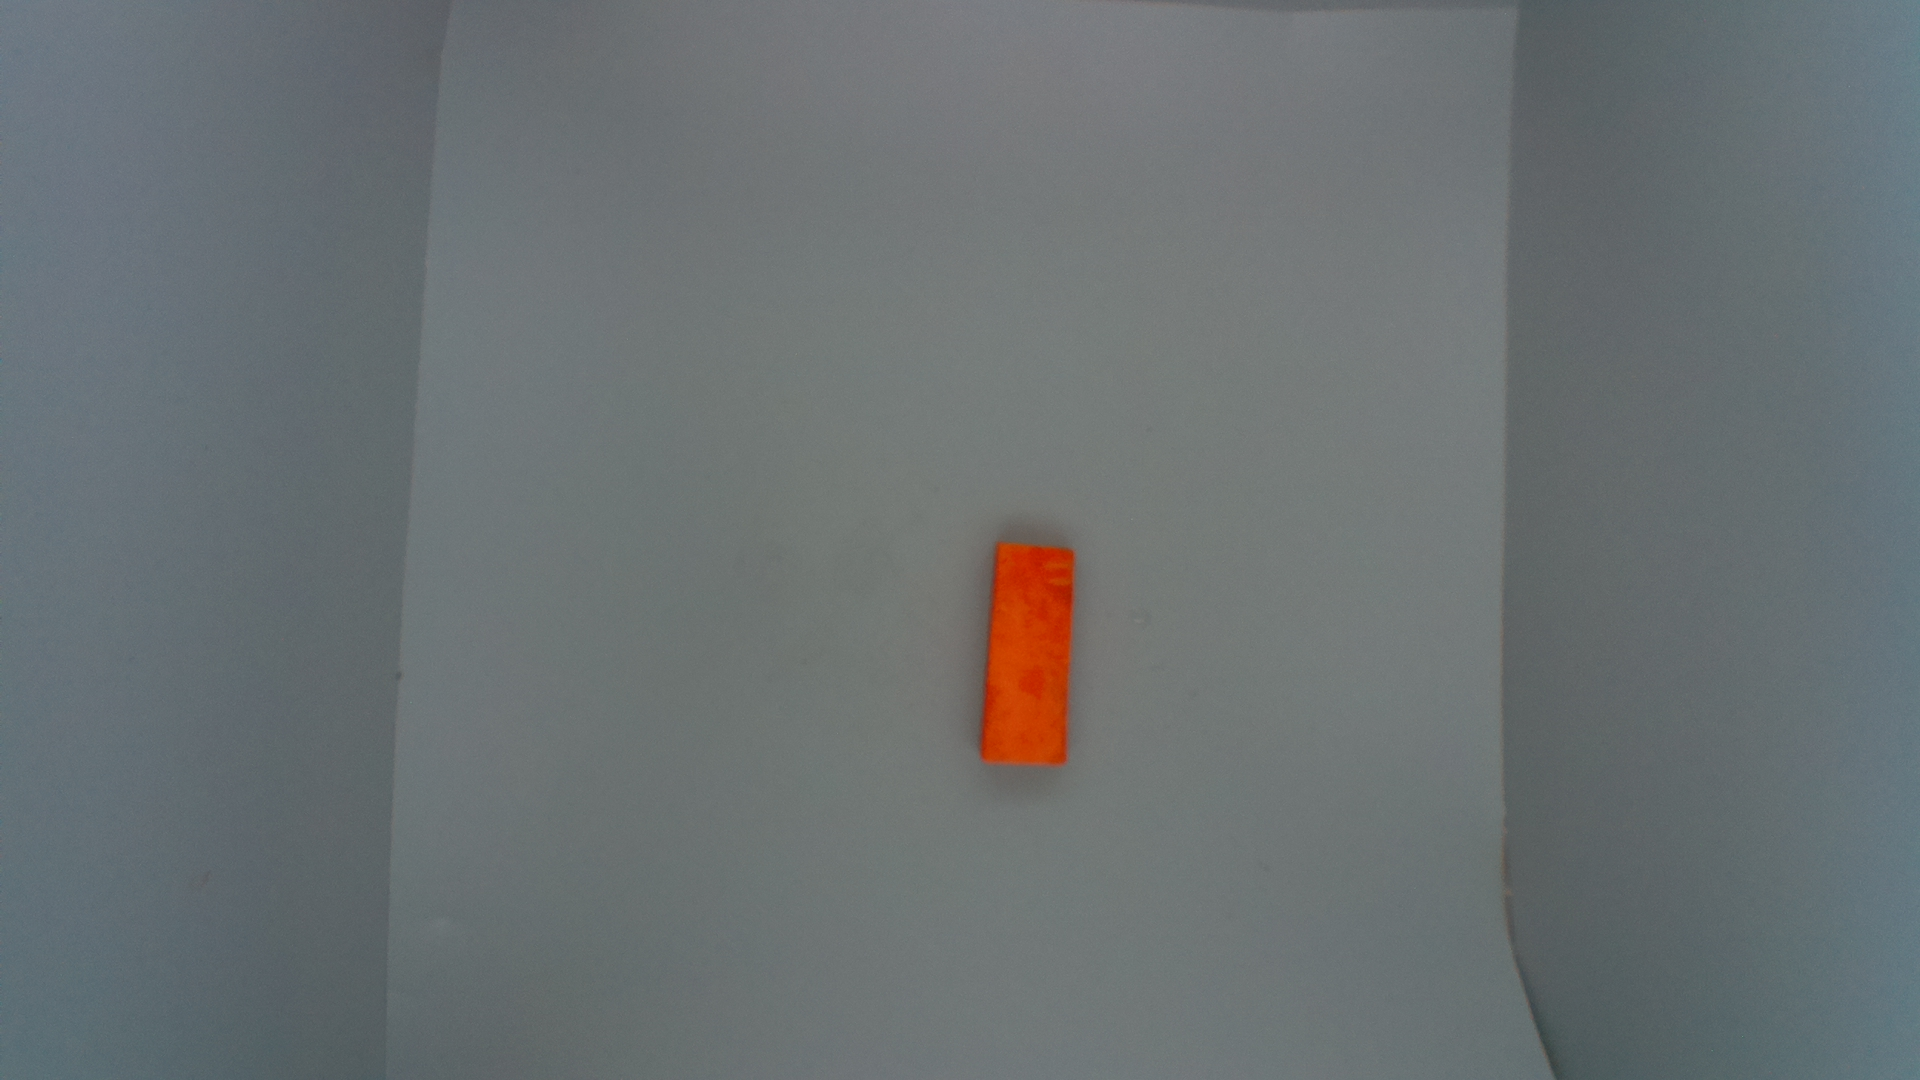carrot: (980, 541, 1071, 771)
